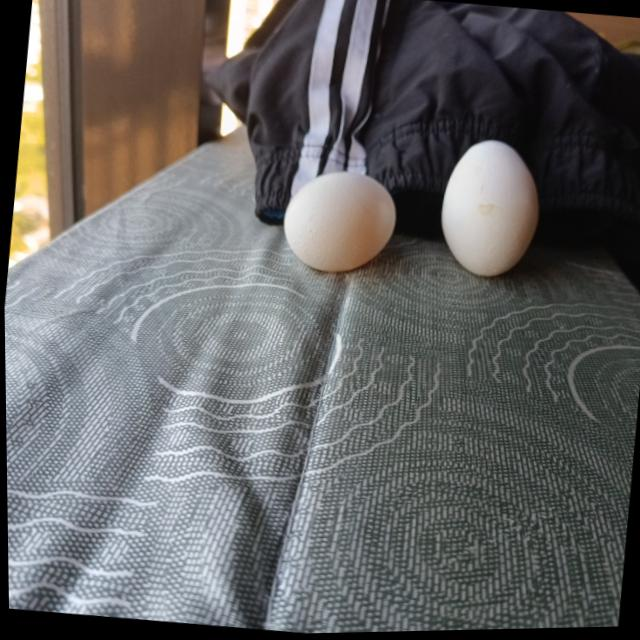egg: (433, 136, 547, 285), (278, 168, 400, 278)
